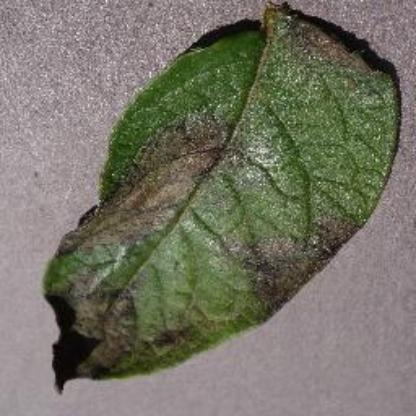Late-Blight: (11, 6, 410, 402)
